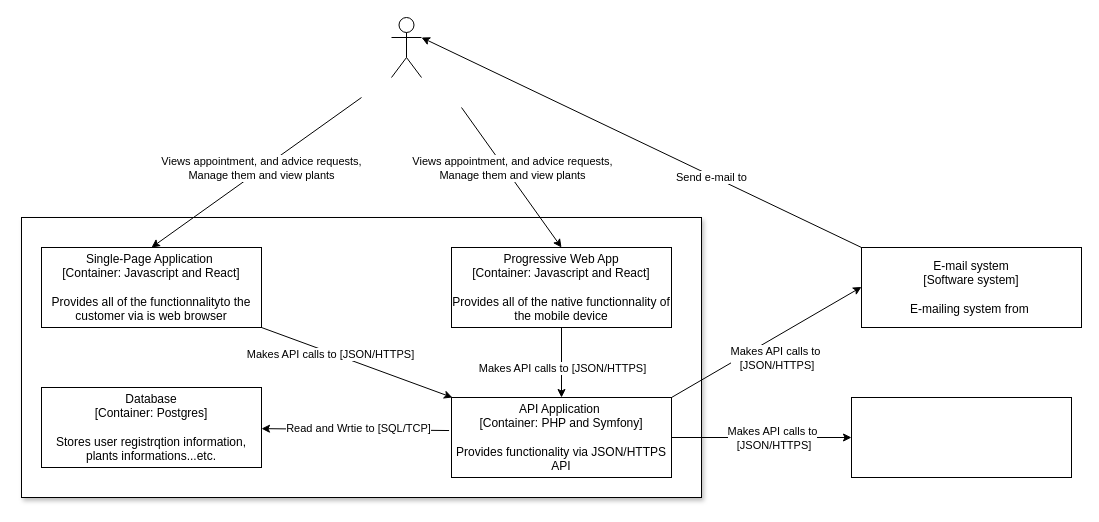
Image size: 1099x522. Some labels were removed from this diagram. The shapes that lost their labels are listed below. From the top down, each one's centre as x and y in pixels, then its label:
At (406,47): "Individual user".
At (961,437): "Photo system [Software system] Stores all of the photos of the application".
